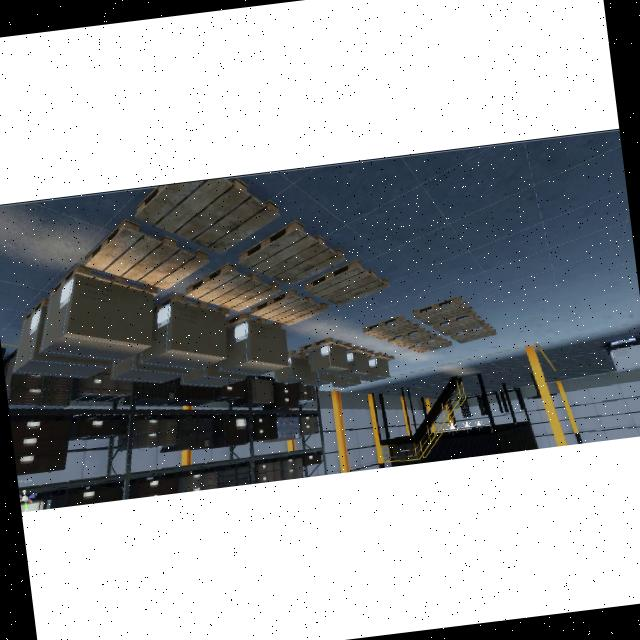wooden_pallet: (49, 263, 157, 298), (152, 293, 230, 317), (225, 312, 282, 330), (299, 336, 353, 353), (22, 297, 49, 324), (346, 345, 374, 356), (366, 352, 395, 361), (287, 350, 309, 359)
